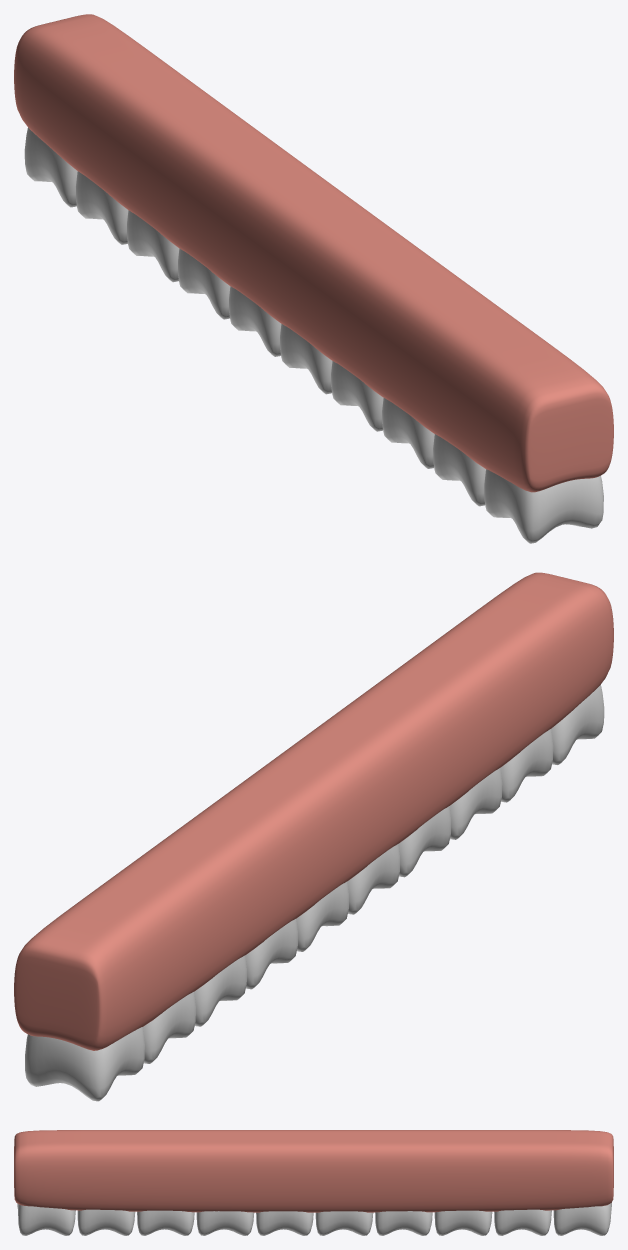
Rendered from teethTop.fbx.
3 views of the same model, one above another, from view 1: azimuth 30°, elevation 25°; view 2: azimuth 150°, elevation 25°; view 3: azimuth 270°, elevation 25° (orthographic). The views are drawn at different scales.
Visible parts, largest first — view 1: teethTop; view 2: teethTop; view 3: teethTop.
Part boxes in pixels (box(x1,y1,x2,y2)): teethTop: box(14, 14, 613, 543); teethTop: box(14, 572, 613, 1101); teethTop: box(14, 1130, 613, 1235).
Bounding box in the file's own units: 69.95 × 11.52 × 7.33.
